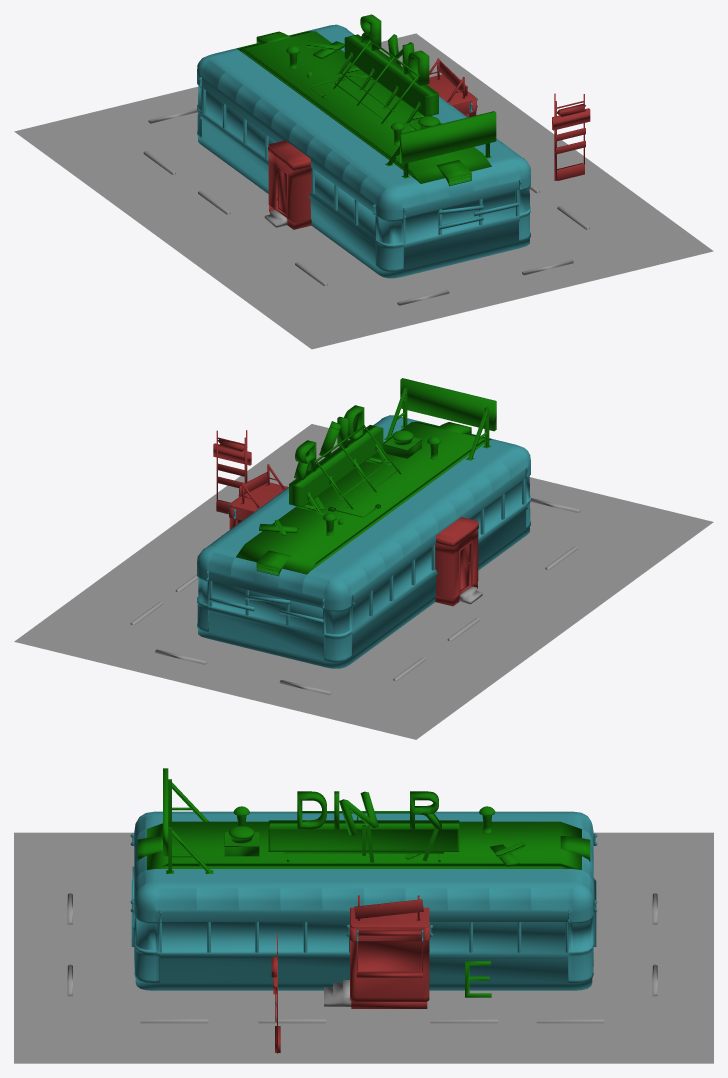
The picture shows the model from 3 angles, top to bottom: view 1: azimuth 30°, elevation 25°; view 2: azimuth 150°, elevation 25°; view 3: azimuth 270°, elevation 25°; orthographic projection. The views are drawn at different scales.
Parts seen in each view (by area): view 1: ground_low, hotel0_low, roof0_low, hotel01_low, a1_low, wd10_low, breaker_low, window1_low, sign0_low, sign2_low, d_low, r_low; view 2: ground_low, hotel0_low, roof0_low, hotel01_low, a1_low, wd10_low, breaker_low, window1_low, sign2_low, r_low; view 3: ground_low, hotel0_low, roof0_low, hotel01_low, wd10_low, breaker_low, sign1_low, sign01_low, window1_low, n_low, r_low, d_low (+7 smaller).
Boxes of the visible parts, x1,y1,x2,y2 form: ground_low: [14, 33, 713, 349]; hotel0_low: [197, 24, 530, 278]; roof0_low: [236, 31, 491, 183]; hotel01_low: [268, 74, 476, 229]; a1_low: [400, 111, 496, 164]; wd10_low: [344, 34, 438, 116]; breaker_low: [143, 108, 589, 305]; window1_low: [202, 88, 518, 243]; sign0_low: [555, 128, 585, 180]; sign2_low: [429, 60, 590, 180]; d_low: [407, 50, 429, 85]; r_low: [359, 14, 381, 50]; ground_low: [14, 424, 713, 739]; hotel0_low: [197, 415, 530, 668]; roof0_low: [236, 421, 491, 574]; hotel01_low: [229, 482, 478, 606]; a1_low: [400, 378, 496, 431]; wd10_low: [289, 425, 383, 507]; breaker_low: [130, 498, 580, 695]; window1_low: [209, 478, 525, 633]; sign2_low: [213, 430, 284, 507]; r_low: [294, 440, 316, 479]; ground_low: [14, 832, 713, 1063]; hotel0_low: [131, 811, 596, 990]; roof0_low: [146, 821, 581, 869]; hotel01_low: [349, 907, 429, 1001]; wd10_low: [268, 820, 459, 851]; breaker_low: [67, 893, 657, 1023]; sign1_low: [277, 930, 427, 1053]; sign01_low: [354, 899, 423, 918]; window1_low: [160, 922, 567, 952]; n_low: [339, 791, 378, 835]; r_low: [410, 791, 441, 829]; d_low: [297, 791, 326, 829].
Size of the model in its own units: 551 by 198 by 707.
